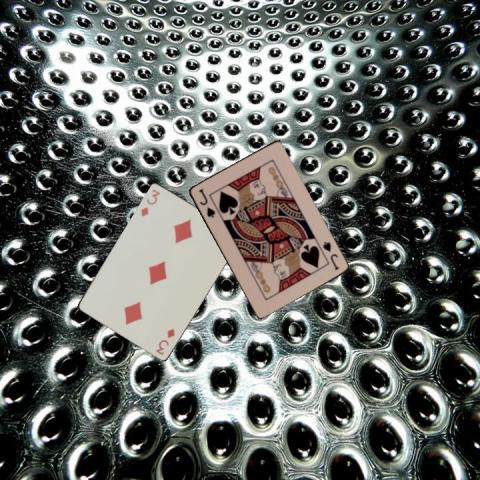3d: (138, 186, 161, 218), (153, 325, 176, 356)
Js: (195, 185, 217, 219), (319, 239, 340, 271)
